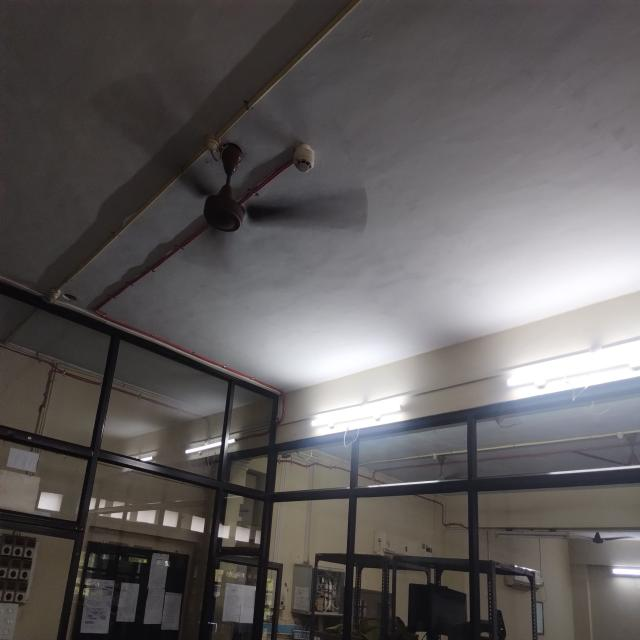tubelight_on: (503, 343, 640, 396), (312, 398, 411, 434), (184, 431, 236, 458), (608, 564, 640, 579), (133, 447, 162, 463)
